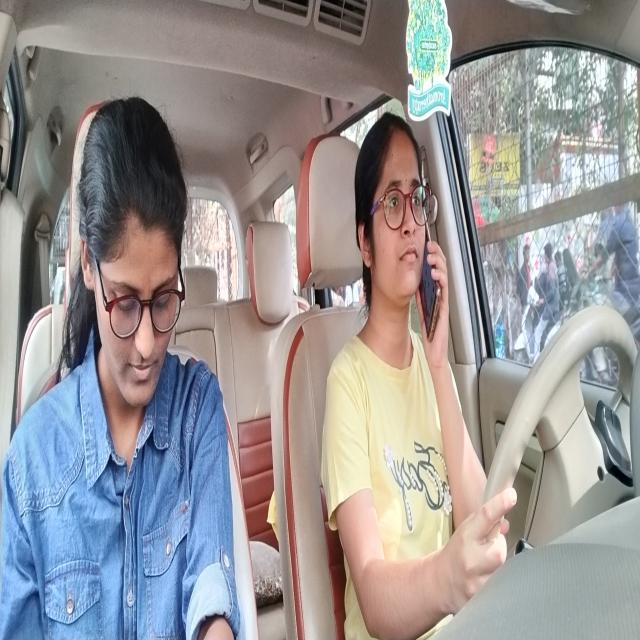mobile: (422, 232, 442, 343)
person: (87, 130, 184, 407), (356, 121, 427, 293)
